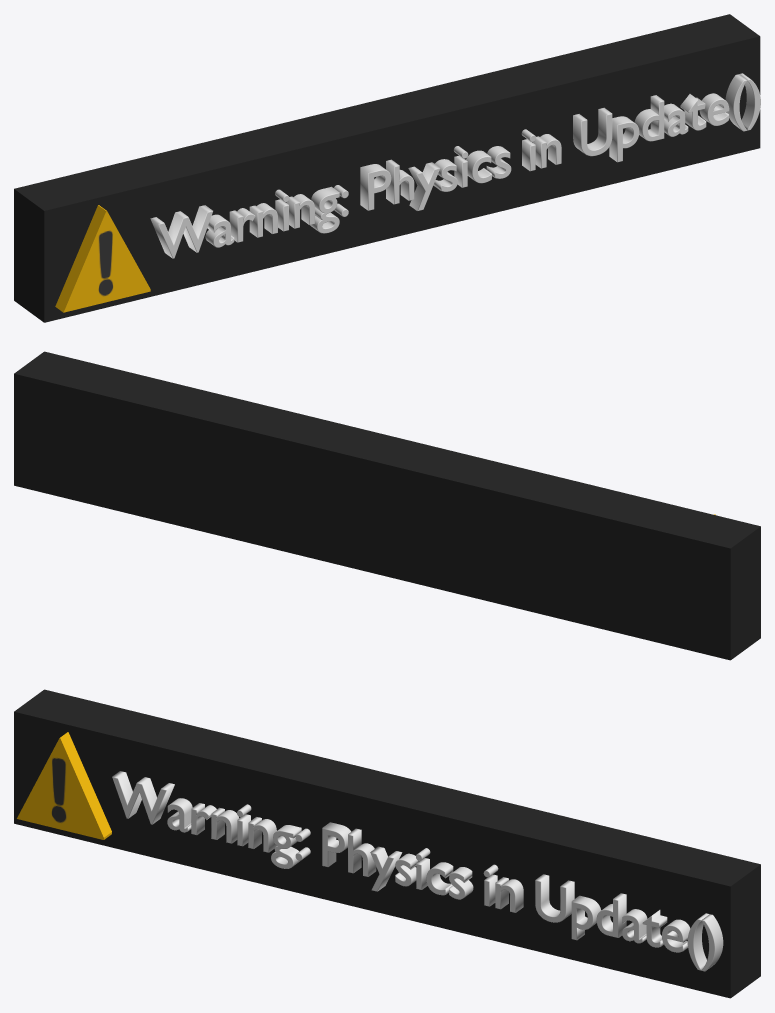
The model's file is Warning_ Physics in Update()1.fbx.
3 views of the same model, one above another, from view 1: azimuth 30°, elevation 25°; view 2: azimuth 150°, elevation 25°; view 3: azimuth 330°, elevation 25° (orthographic).
Visible parts, largest first — view 1: no2, Warning: Physics in Update(); view 2: no2; view 3: no2, Warning: Physics in Update().
Boxes of the visible parts, x1=… form: no2: x1=14, y1=14, x2=760, y2=322; Warning: Physics in Update(): x1=150, y1=73, x2=760, y2=258; no2: x1=14, y1=351, x2=760, y2=660; no2: x1=14, y1=689, x2=760, y2=998; Warning: Physics in Update(): x1=112, y1=771, x2=723, y2=971.
Size of the model in its own units: 2646 by 395 by 247.
